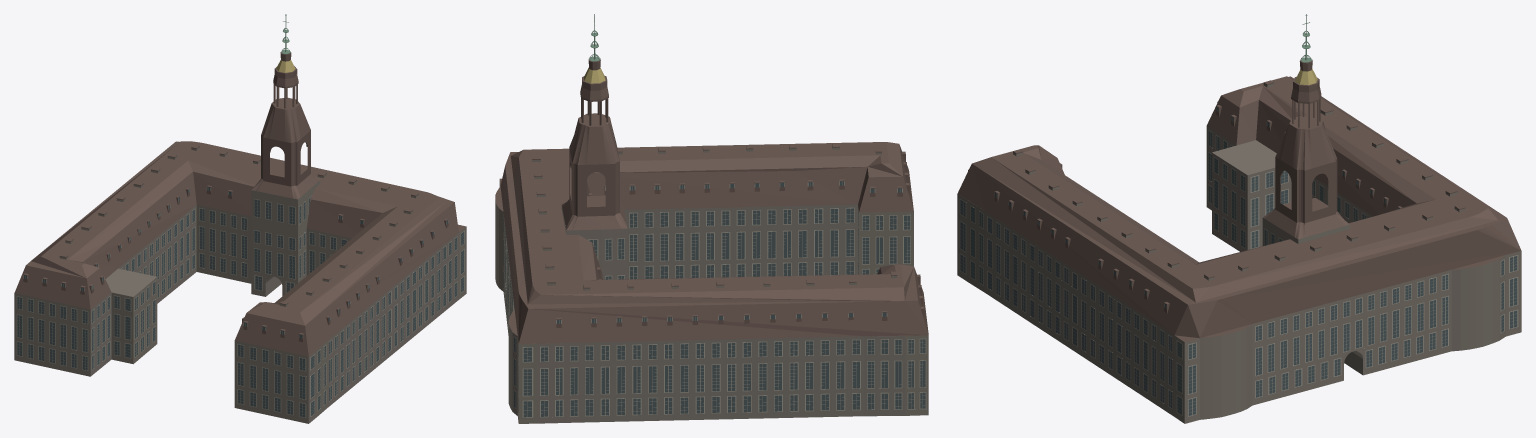
The model's file is christiansborg-palace-near.glb.
The picture shows the model from 3 angles, left to right: view 1: azimuth 30°, elevation 25°; view 2: azimuth 150°, elevation 25°; view 3: azimuth 270°, elevation 25°; orthographic projection. The views are drawn at different scales.
Parts seen in each view (by area): view 1: christiansborg-palace-0-copper, christiansborg-palace-0-stone, christiansborg-palace-0-glass, christiansborg-palace-0-frame; view 2: christiansborg-palace-0-copper, christiansborg-palace-0-stone, christiansborg-palace-0-glass, christiansborg-palace-0-frame; view 3: christiansborg-palace-0-copper, christiansborg-palace-0-stone, christiansborg-palace-0-glass, christiansborg-palace-0-frame.
Boxes of the visible parts, x1=… form: christiansborg-palace-0-copper: x1=14, y1=52, x2=465, y2=356; christiansborg-palace-0-stone: x1=14, y1=146, x2=466, y2=423; christiansborg-palace-0-glass: x1=17, y1=187, x2=464, y2=417; christiansborg-palace-0-frame: x1=16, y1=187, x2=464, y2=417; christiansborg-palace-0-copper: x1=495, y1=58, x2=928, y2=343; christiansborg-palace-0-stone: x1=495, y1=145, x2=928, y2=423; christiansborg-palace-0-glass: x1=503, y1=181, x2=925, y2=417; christiansborg-palace-0-frame: x1=503, y1=181, x2=926, y2=417; christiansborg-palace-0-copper: x1=957, y1=59, x2=1521, y2=342; christiansborg-palace-0-stone: x1=957, y1=83, x2=1521, y2=423; christiansborg-palace-0-glass: x1=960, y1=106, x2=1517, y2=415; christiansborg-palace-0-frame: x1=959, y1=106, x2=1518, y2=416.
Size of the model in its own units: 164 by 106 by 163.
